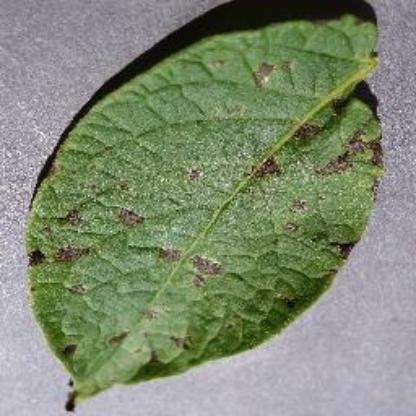Early-Blight: (27, 13, 383, 408)
